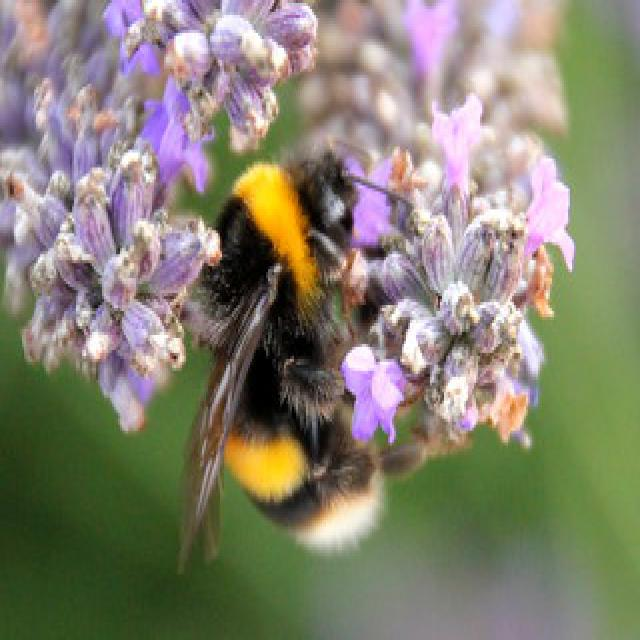Abeille: (147, 110, 439, 590)
